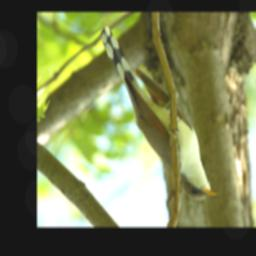Cuckoo: (102, 27, 220, 201)
